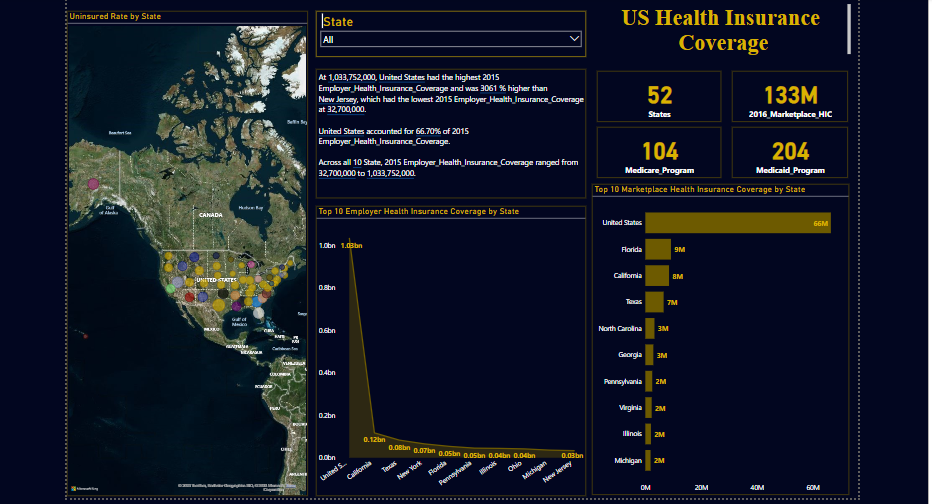

Layout of this report page (visuals, bound fields, positions):
{"tool":"powerbi","page":{"name":"Page 1","canvas":[1900,1200],"ordinal":0},"visuals":[{"type":"card","fields":{"Values":["DAX.States"]},"box":[1272,175.2,297.6,122.4],"z":0},{"type":"card","fields":{"Values":["DAX.2016_Marketplace_Health_Insurance_Coverage"]},"box":[1596,175.2,278.4,122.4],"z":1000},{"type":"card","fields":{"Values":["DAX.Medicare_Program"]},"box":[1272,309.6,297.6,122.4],"z":2000},{"type":"card","fields":{"Values":["DAX.Medicaid_Program"]},"box":[1596,309.6,278.4,122.4],"z":3000},{"type":"textbox","box":[1272,9.6,614.4,132],"z":4000},{"type":"map","title":"Uninsured Rate by State","fields":{"Category":["states.State"],"Size":["Sum(states.Uninsured Rate)"]},"box":[0,31.2,578.4,1164],"z":5000},{"type":"areaChart","title":"Top 10 Employer Health Insurance Coverage by State","fields":{"Category":["states.State"],"Y":["DAX.2015 Employer_Health_Insurance_Coverage"]},"box":[597.6,499.2,648,696],"z":6000},{"type":"barChart","title":"Top 10 Marketplace Health Insurance Coverage by State","fields":{"Category":["states.State"],"Y":["DAX.2016_Marketplace_HIC"]},"box":[1260,446.4,616.8,746.4],"z":7000},{"type":"textbox","box":[597.6,170.4,648,309.6],"z":8000},{"type":"slicer","fields":{"Values":["states.State"]},"box":[597.6,31.2,648,110.4],"z":9000}]}

Visuals, with their boxes on the page's 1900x1200 design canvas (x1, y1, x2, y2). These are canvas units, not pixel positions in the 932x504 screenshot, which may show the page scaled, cropped or inside an application window:
card - DAX.States: left=1272, top=175, right=1570, bottom=298
card - DAX.2016_Marketplace_Health_Insurance_Coverage: left=1596, top=175, right=1874, bottom=298
card - DAX.Medicare_Program: left=1272, top=310, right=1570, bottom=432
card - DAX.Medicaid_Program: left=1596, top=310, right=1874, bottom=432
textbox: left=1272, top=10, right=1886, bottom=142
"Uninsured Rate by State" map: left=0, top=31, right=578, bottom=1195
"Top 10 Employer Health Insurance Coverage by State" areaChart: left=598, top=499, right=1246, bottom=1195
"Top 10 Marketplace Health Insurance Coverage by State" barChart: left=1260, top=446, right=1877, bottom=1193
textbox: left=598, top=170, right=1246, bottom=480
slicer - states.State: left=598, top=31, right=1246, bottom=142
